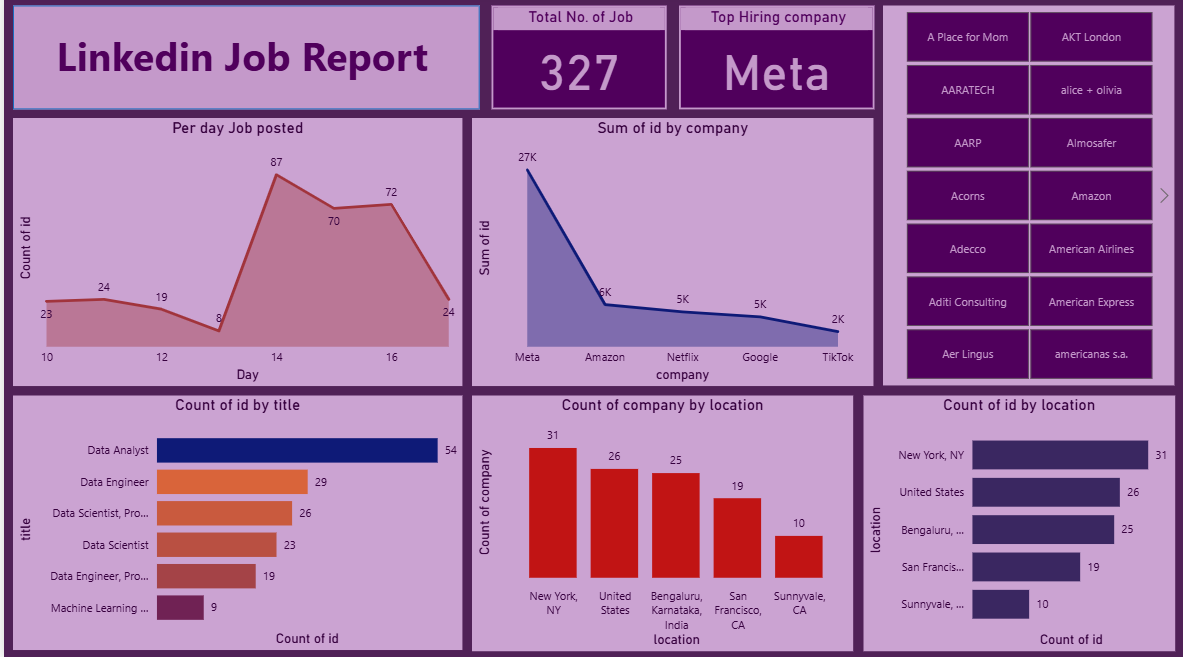

Layout of this report page (visuals, bound fields, positions):
{"tool":"powerbi","page":{"name":"Page 1","canvas":[1280,720],"ordinal":0},"visuals":[{"type":"shape","box":[10.1,11.8,506.1,112.6],"z":0},{"type":"lineChart","title":"Per day Job posted","fields":{"Category":["clean_jobs.date_posted.Variation.Date Hierarchy.Day"],"Y":["CountNonNull(clean_jobs.id)"]},"box":[10.1,132.8,487.6,290.9],"z":1000},{"type":"columnChart","fields":{"Category":["clean_jobs.location"],"Y":["CountNonNull(clean_jobs.company)"]},"box":[507.7,433.8,413.6,277.4],"z":2000},{"type":"clusteredBarChart","fields":{"Category":["clean_jobs.title"],"Y":["CountNonNull(clean_jobs.id)"]},"box":[10.1,433.8,487.6,275.7],"z":3000},{"type":"areaChart","fields":{"Category":["clean_jobs.company"],"Y":["Sum(clean_jobs.id)"]},"box":[507.7,132.8,435.4,290.9],"z":4000},{"type":"clusteredBarChart","fields":{"Y":["CountNonNull(clean_jobs.id)"],"Category":["clean_jobs.location"]},"box":[931.4,433.8,337.9,277.4],"z":5000},{"type":"slicer","fields":{"Values":["clean_jobs.company"]},"box":[953.3,11.8,316.1,411.9],"z":6000},{"type":"textbox","box":[40.4,30.3,447.2,72.3],"z":7000},{"type":"card","title":"Top Hiring company","fields":{"Values":["clean_jobs.TopHiringCompany"]},"box":[731.4,11.8,211.8,112.6],"z":8000},{"type":"card","title":"Total No. of Job ","fields":{"Values":["clean_jobs.Total_Number_job"]},"box":[527.9,11.8,190,112.6],"z":9000}]}

Visuals, with their boxes in screenshot pixels (x1, y1, x2, y2), scaled from the page's 1280x720 canvas onto the 1183x657 screenshot:
shape: pyautogui.locateOnScreen(9, 11, 477, 114)
"Per day Job posted" lineChart: pyautogui.locateOnScreen(9, 121, 460, 387)
columnChart - clean_jobs.location x CountNonNull(clean_jobs.company): pyautogui.locateOnScreen(469, 396, 851, 649)
clusteredBarChart - clean_jobs.title x CountNonNull(clean_jobs.id): pyautogui.locateOnScreen(9, 396, 460, 647)
areaChart - clean_jobs.company x Sum(clean_jobs.id): pyautogui.locateOnScreen(469, 121, 872, 387)
clusteredBarChart - CountNonNull(clean_jobs.id) x clean_jobs.location: pyautogui.locateOnScreen(861, 396, 1173, 649)
slicer - clean_jobs.company: pyautogui.locateOnScreen(881, 11, 1173, 387)
textbox: pyautogui.locateOnScreen(37, 28, 451, 94)
"Top Hiring company" card: pyautogui.locateOnScreen(676, 11, 872, 114)
"Total No. of Job " card: pyautogui.locateOnScreen(488, 11, 663, 114)
